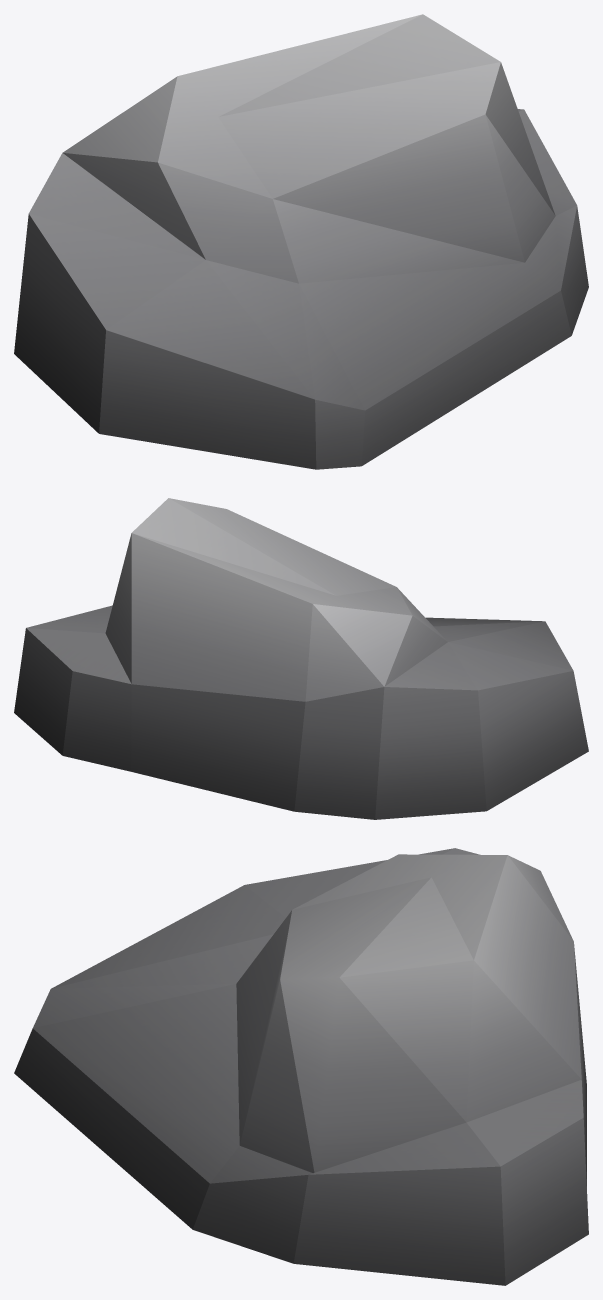
The model's file is RockLrg-03.FBX.
The picture shows the model from 3 angles, top to bottom: view 1: azimuth 30°, elevation 25°; view 2: azimuth 150°, elevation 25°; view 3: azimuth 270°, elevation 25°; orthographic projection. The views are drawn at different scales.
Visible parts, largest first — view 1: RockLrg-03; view 2: RockLrg-03; view 3: RockLrg-03.
Part boxes in pixels (x1,y1,x2,y2): RockLrg-03: (14, 14, 588, 469); RockLrg-03: (14, 498, 588, 819); RockLrg-03: (14, 848, 588, 1285).
Size of the model in its own units: 618 by 247 by 499.
1 material, 1 textured.
